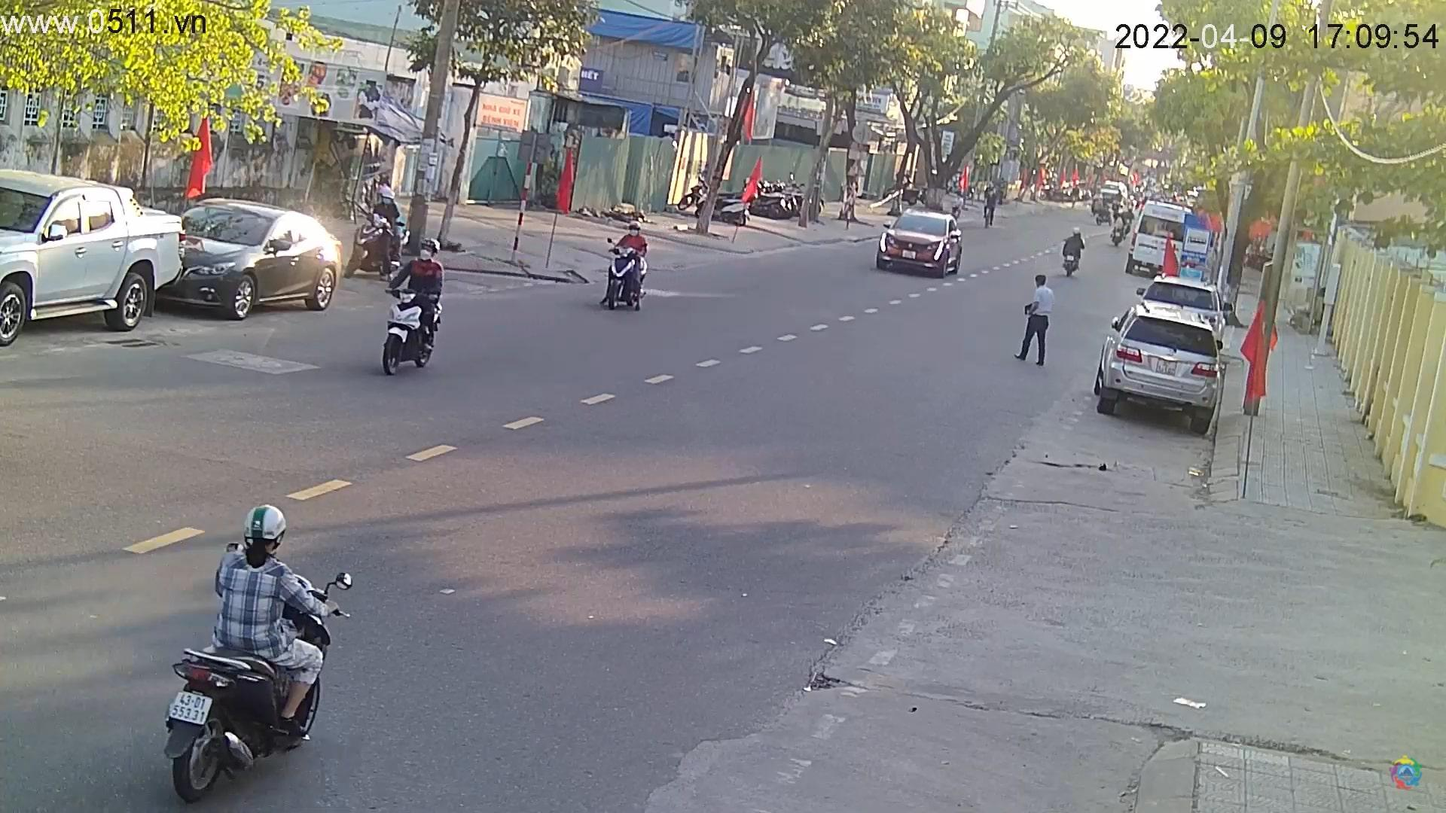bus: (876, 212, 965, 277)
car: (2, 166, 186, 354), (165, 199, 349, 320)
motorbike: (374, 273, 443, 380), (599, 238, 656, 321)
